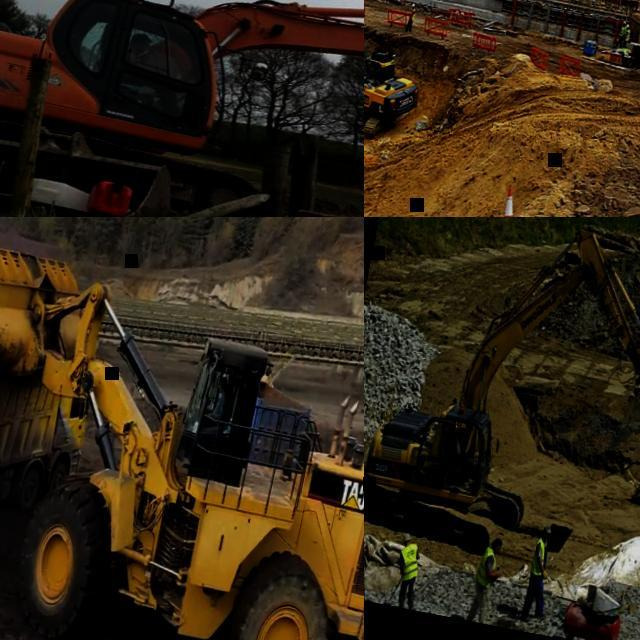helmet: (402, 532, 412, 541), (621, 20, 626, 24), (626, 24, 630, 29), (410, 3, 414, 7)
vest: (472, 546, 498, 590), (396, 542, 420, 581), (528, 538, 550, 577), (450, 438, 466, 456), (408, 8, 416, 23), (622, 28, 630, 42), (620, 26, 625, 35)
